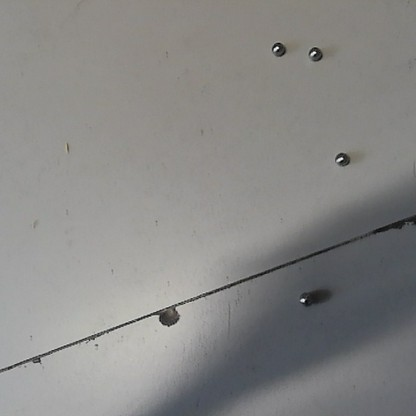ironball: (333, 148, 356, 169), (305, 43, 324, 64), (295, 288, 312, 307), (268, 41, 287, 57)
